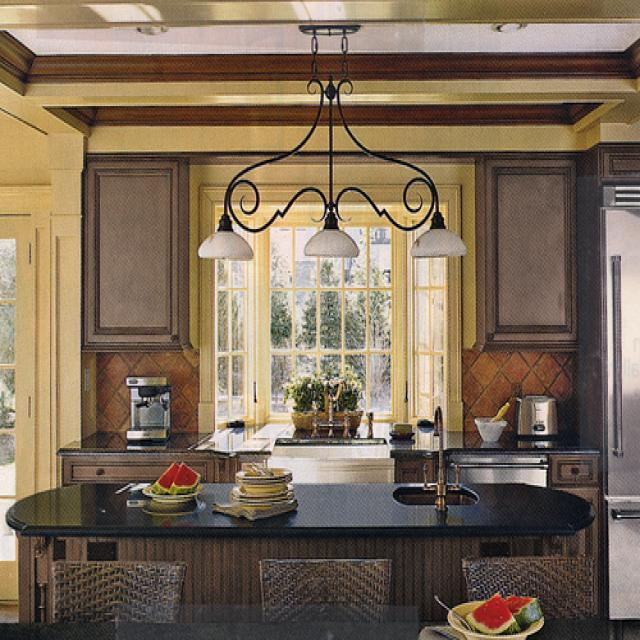chair: (462, 549, 597, 628), (259, 558, 394, 624), (49, 560, 190, 622)
dining table: (1, 595, 640, 639)
